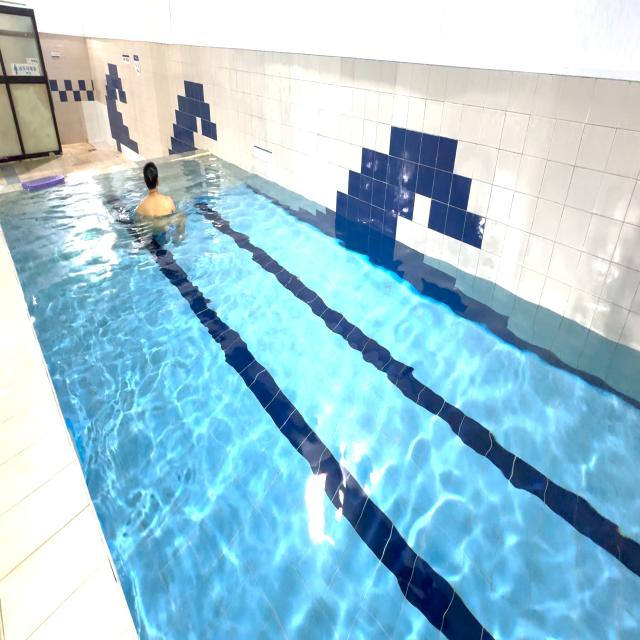Swimming: (120, 148, 185, 266)
